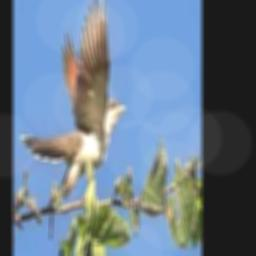Cuckoo: (19, 0, 127, 194)
